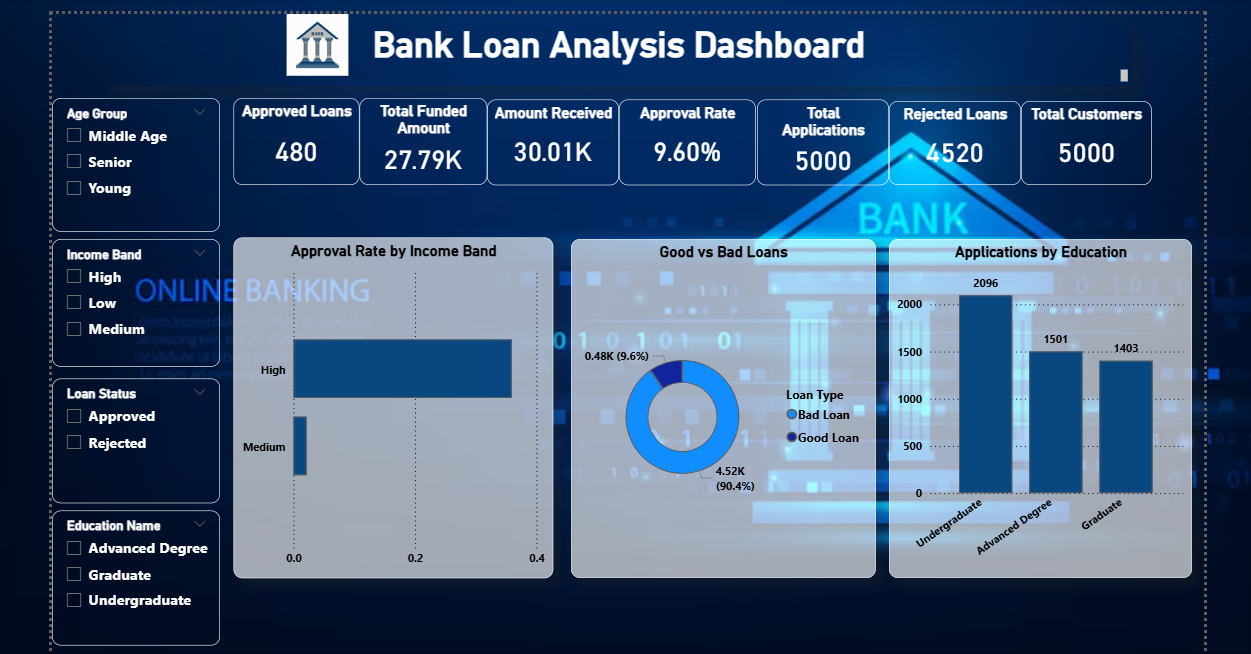

Layout of this report page (visuals, bound fields, positions):
{"tool":"powerbi","page":{"name":"Page 1","canvas":[1280,720],"ordinal":0},"visuals":[{"type":"card","title":"Total Customers","fields":{"Values":["Data.Total Customers"]},"box":[1076.7,96.7,145,93.3],"z":0},{"type":"card","title":"Total Applications","fields":{"Values":["Data.Total Applications"]},"box":[783.3,95,146.7,95],"z":1000},{"type":"card","title":"Rejected Loans","fields":{"Values":["Data.Rejected Loans"]},"box":[930,96.7,146.7,93.3],"z":2000},{"type":"card","title":"Approval Rate","fields":{"Values":["Data.Approval Rate"]},"box":[630,95,151.7,95],"z":3000},{"type":"card","title":"Total Funded Amount","fields":{"Values":["Data.Total Funded Amount"]},"box":[341.7,93.3,141.7,96.7],"z":4000},{"type":"card","title":"Amount Received","fields":{"Values":["Sum(Data.Amount Received)"]},"box":[483.3,95,146.7,95],"z":5000},{"type":"donutChart","title":"Good vs Bad Loans","fields":{"Category":["Data.Loan Type"],"Y":["CountNonNull(Data.Loan Type)"]},"box":[576.7,250,338.3,376.7],"z":6000},{"type":"clusteredColumnChart","title":"Applications by Education","fields":{"Category":["Data.Education Name"],"Y":["Data.Total Applications"]},"box":[930,250,336.7,376.7],"z":7000},{"type":"barChart","fields":{"Category":["Data.Income Band"],"Y":["Data.Approval Rate"]},"box":[201.7,248.3,355,378.3],"z":8000},{"type":"slicer","fields":{"Values":["Data.Age Group"]},"box":[0,93.3,186.7,148.3],"z":9000},{"type":"slicer","fields":{"Values":["Data.Income Band"]},"box":[0,250,186.7,141.7],"z":10000},{"type":"slicer","fields":{"Values":["Data.Education Name"]},"box":[0,551.7,186.7,150],"z":11000},{"type":"slicer","fields":{"Values":["Data.Loan Status"]},"box":[0,405,186.7,138.3],"z":12000},{"type":"card","title":"Approved Loans","fields":{"Values":["Data.Approved Loans"]},"box":[201.7,93.3,140,96.7],"z":13000},{"type":"textbox","title":"Bank Loan Analysis Dashboard","box":[60,11.7,1140,68.3],"z":14000},{"type":"image","box":[186.7,0,216.7,68.3],"z":14001}]}

Visuals, with their boxes on the page's 1280x720 design canvas (x1, y1, x2, y2). These are canvas units, not pixel positions in the 1251x654 screenshot, which may show the page scaled, cropped or inside an application window:
"Total Customers" card: [left=1077, top=97, right=1222, bottom=190]
"Total Applications" card: [left=783, top=95, right=930, bottom=190]
"Rejected Loans" card: [left=930, top=97, right=1077, bottom=190]
"Approval Rate" card: [left=630, top=95, right=782, bottom=190]
"Total Funded Amount" card: [left=342, top=93, right=483, bottom=190]
"Amount Received" card: [left=483, top=95, right=630, bottom=190]
"Good vs Bad Loans" donutChart: [left=577, top=250, right=915, bottom=627]
"Applications by Education" clusteredColumnChart: [left=930, top=250, right=1267, bottom=627]
barChart - Data.Income Band x Data.Approval Rate: [left=202, top=248, right=557, bottom=627]
slicer - Data.Age Group: [left=0, top=93, right=187, bottom=242]
slicer - Data.Income Band: [left=0, top=250, right=187, bottom=392]
slicer - Data.Education Name: [left=0, top=552, right=187, bottom=702]
slicer - Data.Loan Status: [left=0, top=405, right=187, bottom=543]
"Approved Loans" card: [left=202, top=93, right=342, bottom=190]
"Bank Loan Analysis Dashboard" textbox: [left=60, top=12, right=1200, bottom=80]
image: [left=187, top=0, right=403, bottom=68]
